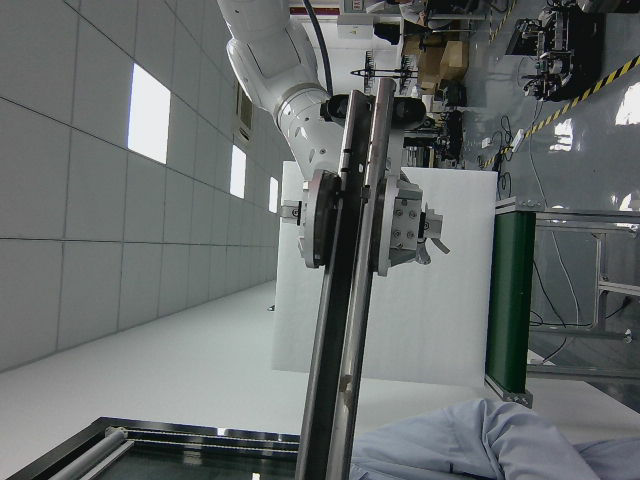left: (298, 71, 398, 478)
